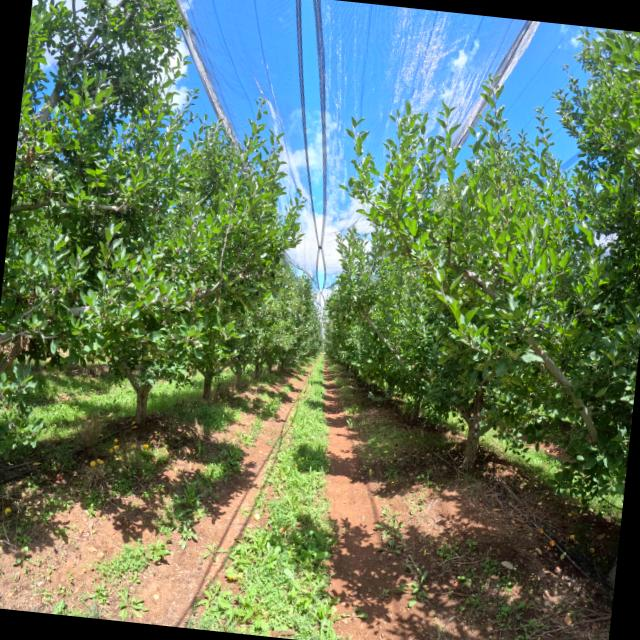-FireBlight-: (0, 329, 30, 361), (189, 285, 208, 307)
